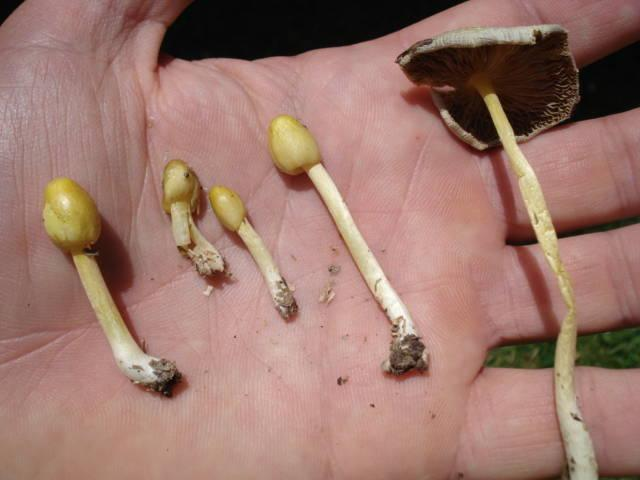edible_mushroom: (394, 22, 600, 478), (267, 112, 429, 376), (40, 175, 181, 396)
